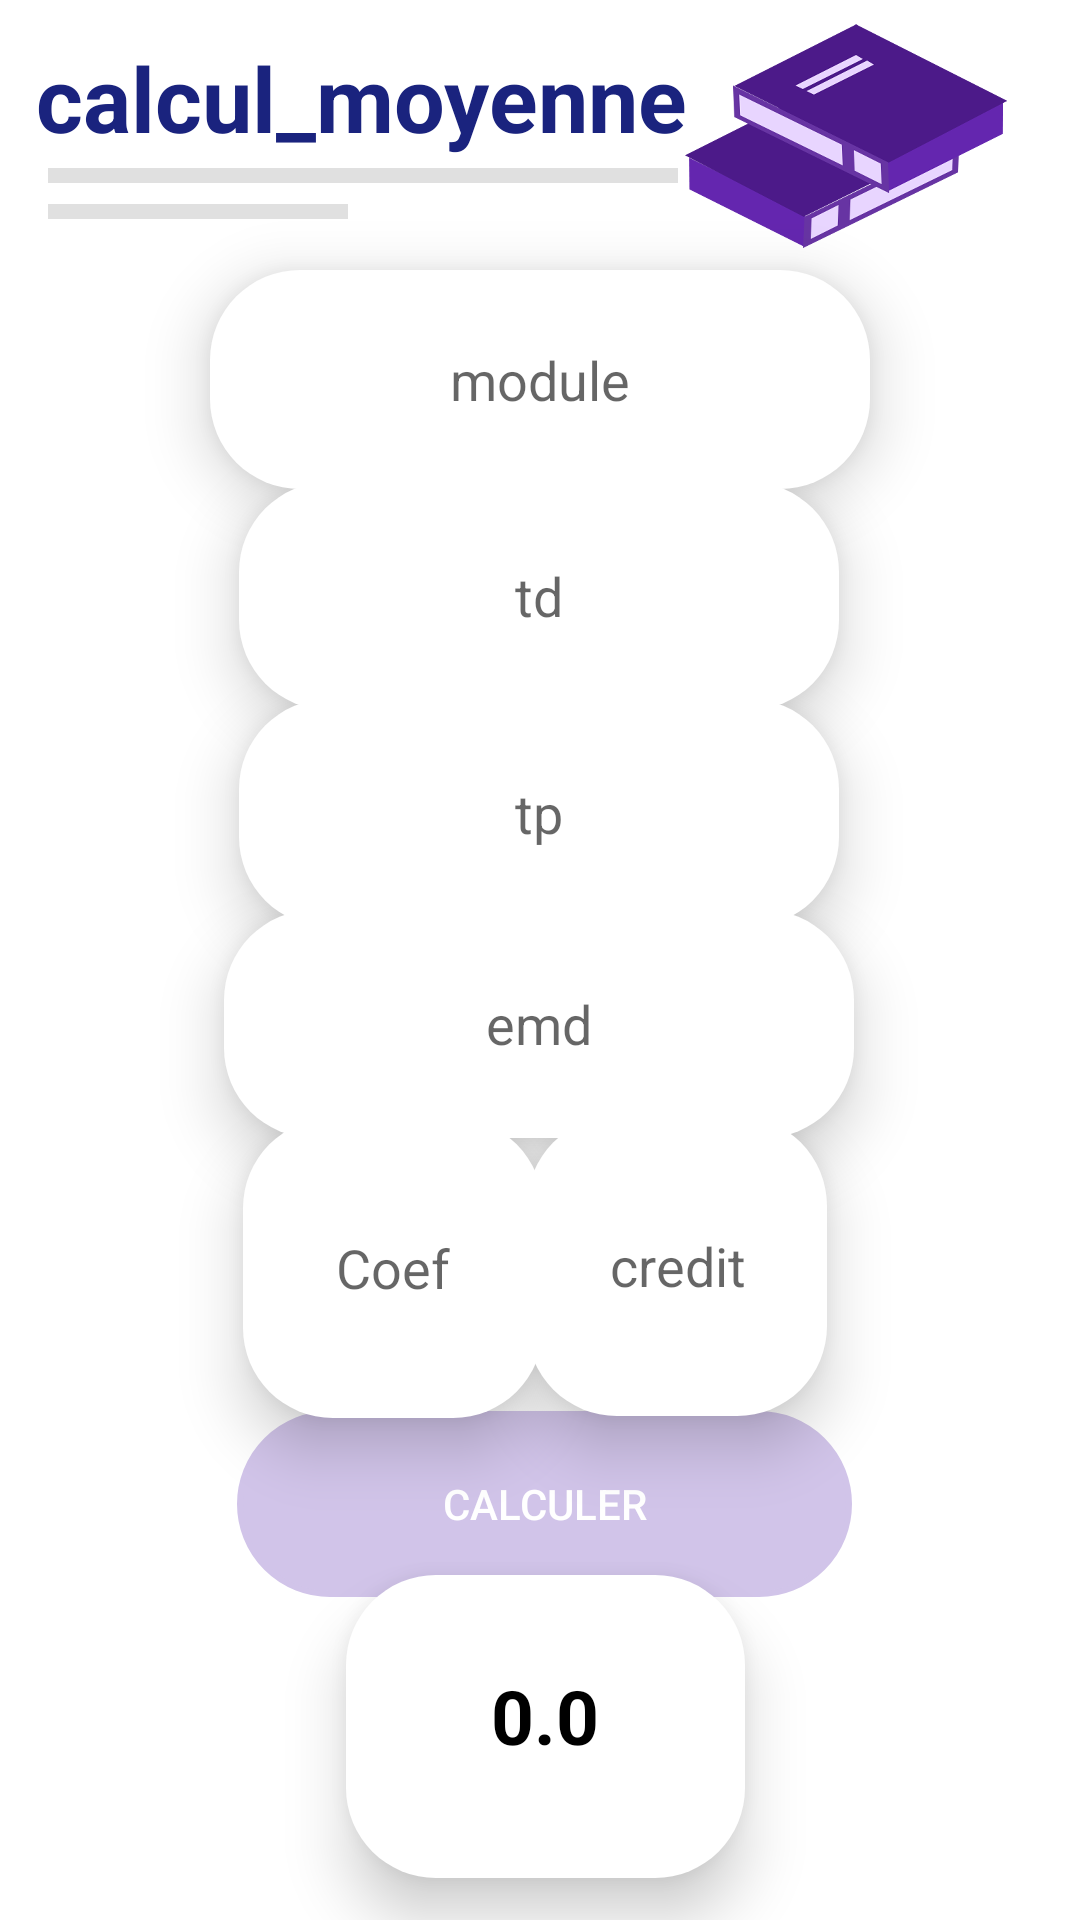

Locate icon controls on the screen. Image size 1080px×1920px, boxes as (x1, y1, x2, y2).
livres: (685, 24, 1007, 248)
